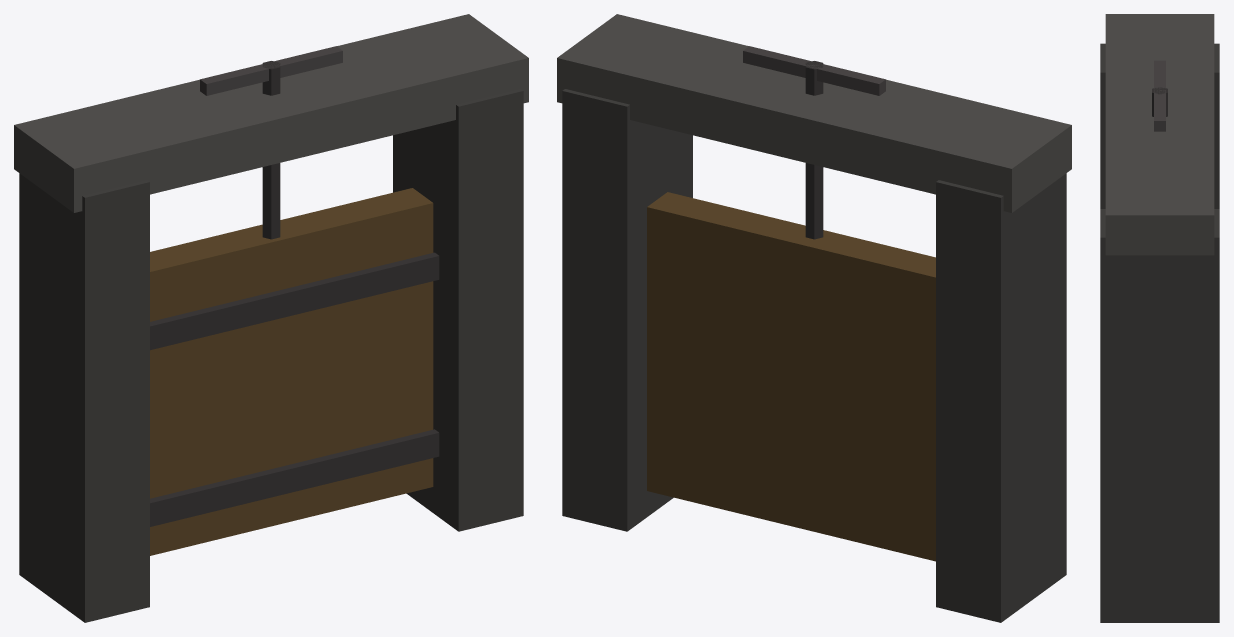
The model's file is sluice_gate.glb.
The picture shows the model from 3 angles, left to right: view 1: azimuth 30°, elevation 25°; view 2: azimuth 150°, elevation 25°; view 3: azimuth 270°, elevation 25°; orthographic projection. The views are drawn at different scales.
Visible parts, largest first — view 1: sluice_gate; view 2: sluice_gate; view 3: sluice_gate.
Part boxes in pixels (x1,y1,x2,y2): sluice_gate: (14, 14, 528, 622); sluice_gate: (557, 14, 1071, 622); sluice_gate: (1100, 14, 1219, 622).
Size of the model in its own units: 2.8 by 2.83 by 0.7.
